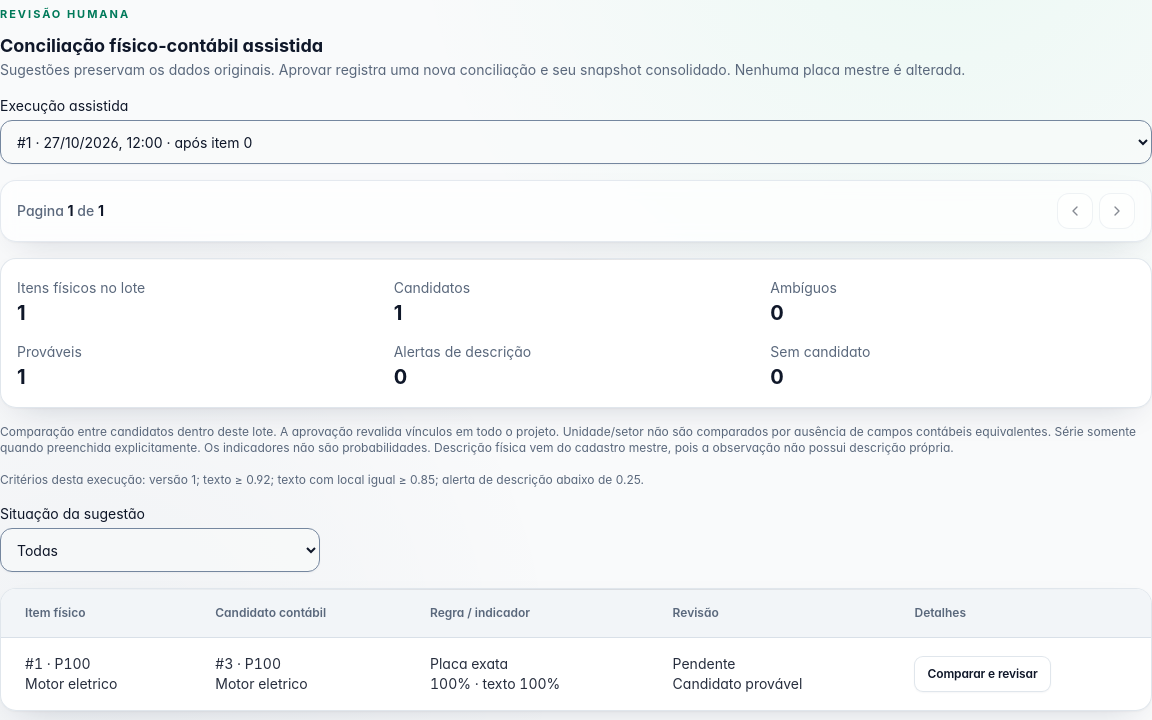
Assisted review integrated panel › keeps read-only users from generating or deciding and displays history
Click the button "Comparar e revisar".
click(983, 674)  # box [914,656,1051,692]
(page scrolled)
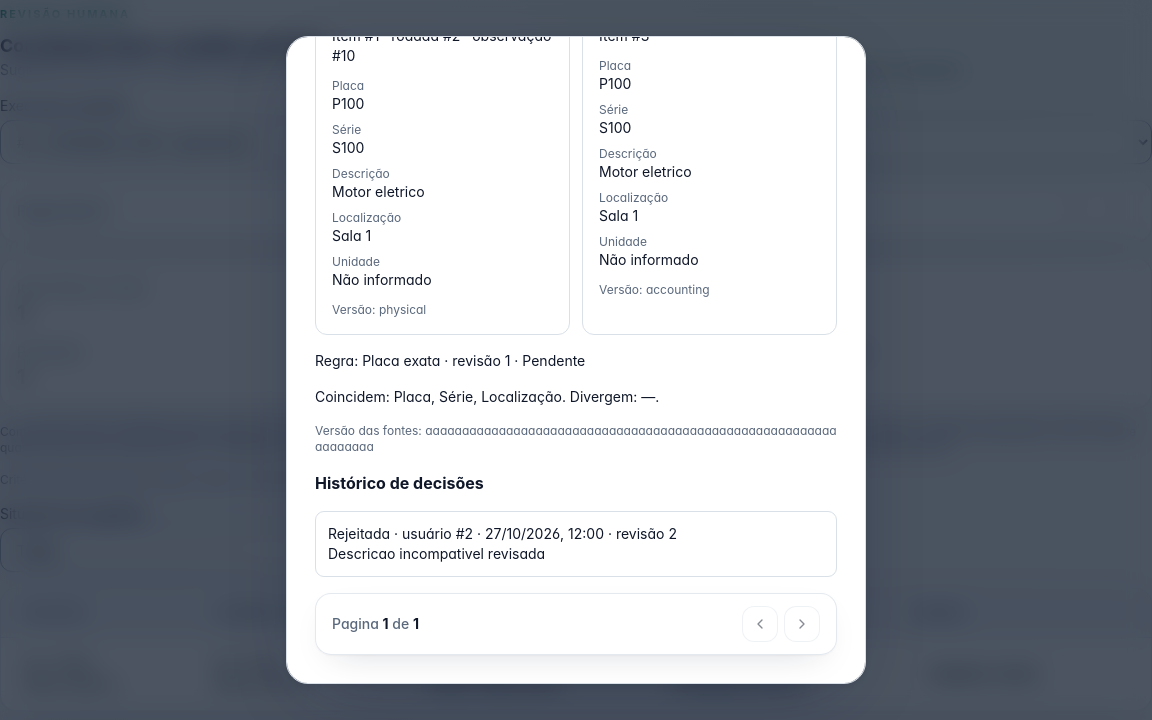
Result: the text "Descricao incompativel revisada" is shown at [328,545,545,562]
